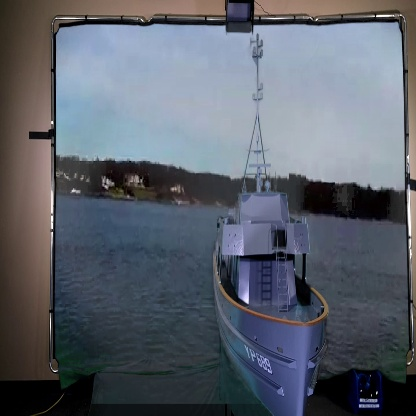YP689: (211, 46, 330, 416)
